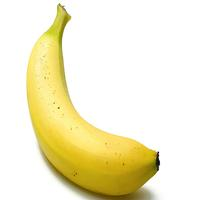banane: (26, 2, 171, 197)
